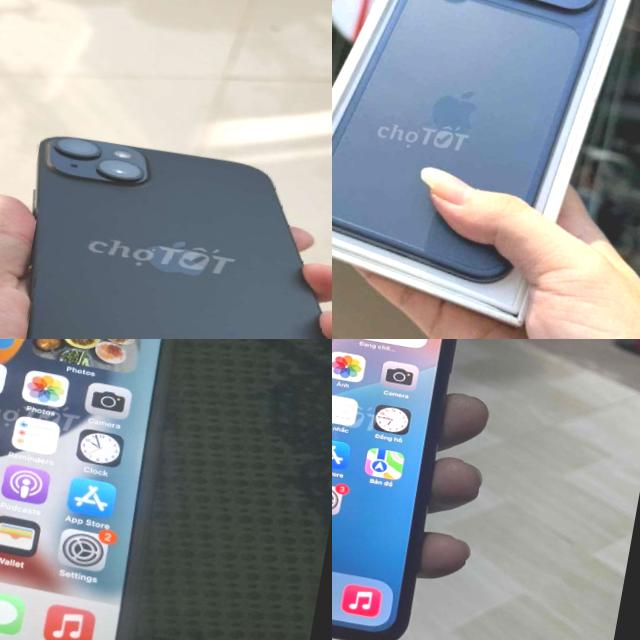gen_15: (0, 107, 332, 339)
gen_17: (332, 0, 609, 295)
gen_6: (0, 339, 215, 640)
gen_x_xs: (332, 339, 484, 640)
